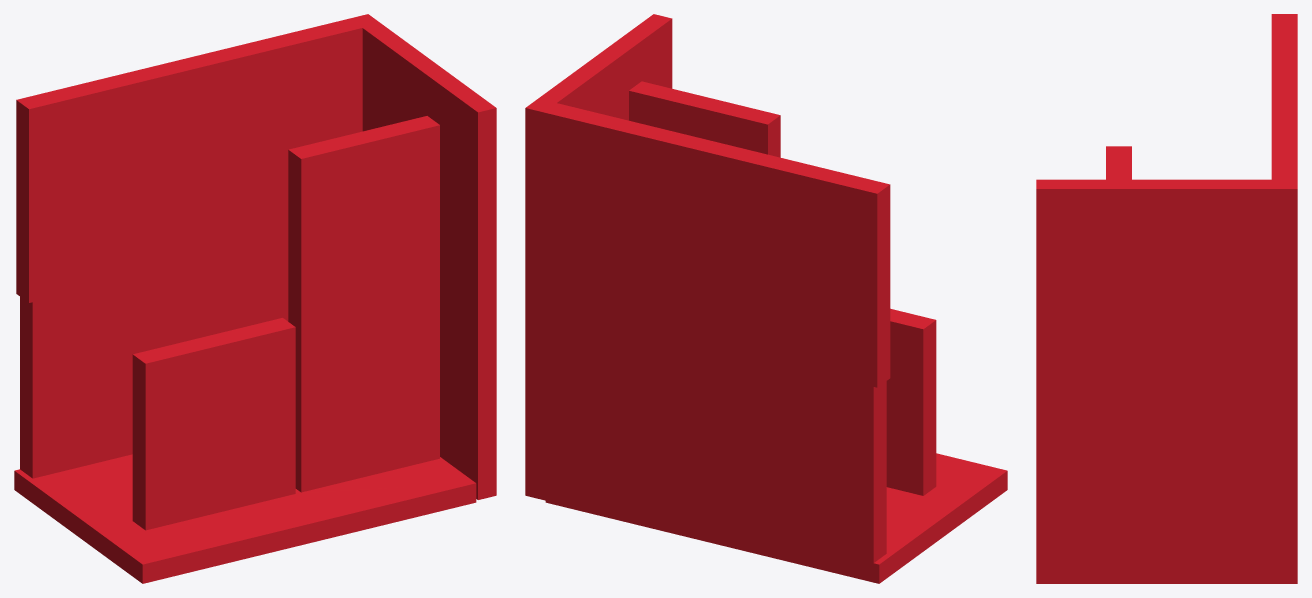
Rendered from tinker.obj.
The picture shows the model from 3 angles, left to right: view 1: azimuth 30°, elevation 25°; view 2: azimuth 150°, elevation 25°; view 3: azimuth 270°, elevation 25°; orthographic projection.
Parts seen in each view (by area): view 1: obj_0; view 2: obj_0; view 3: obj_0.
Part boxes in pixels (x1,y1,x2,y2): obj_0: (14,14,496,583); obj_0: (525,14,1007,583); obj_0: (1036,14,1297,583).
Size of the model in its own units: 191 by 201 by 120.
